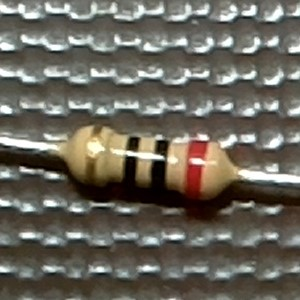black_band: (118, 133, 143, 189), (149, 137, 173, 193)
gold_band: (79, 123, 105, 188)
red_band: (180, 137, 210, 201)
